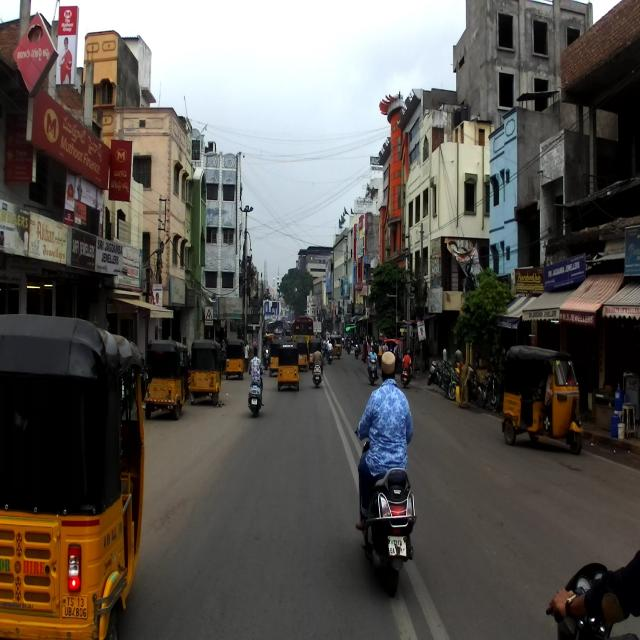autorickshaw: (0, 312, 152, 638), (500, 344, 584, 456)
scooter: (366, 434, 416, 596), (248, 381, 261, 414), (311, 362, 322, 387), (369, 356, 377, 385)
